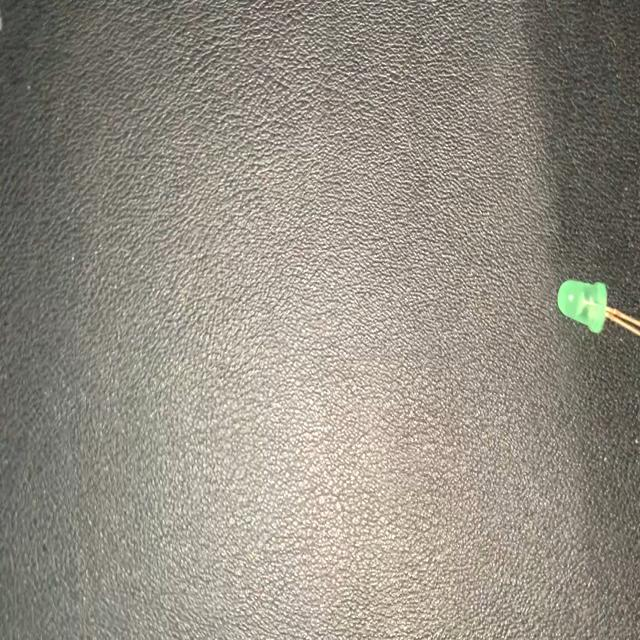LED: (554, 273, 640, 335)
